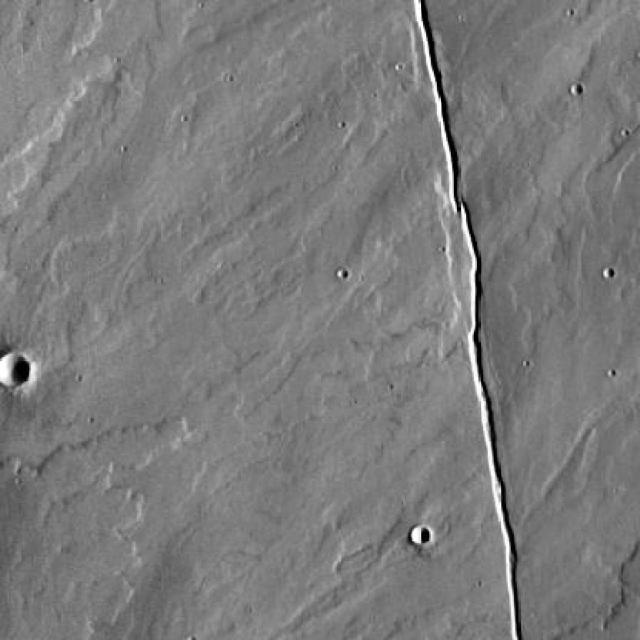crater: (0, 354, 26, 389), (409, 528, 428, 546)
